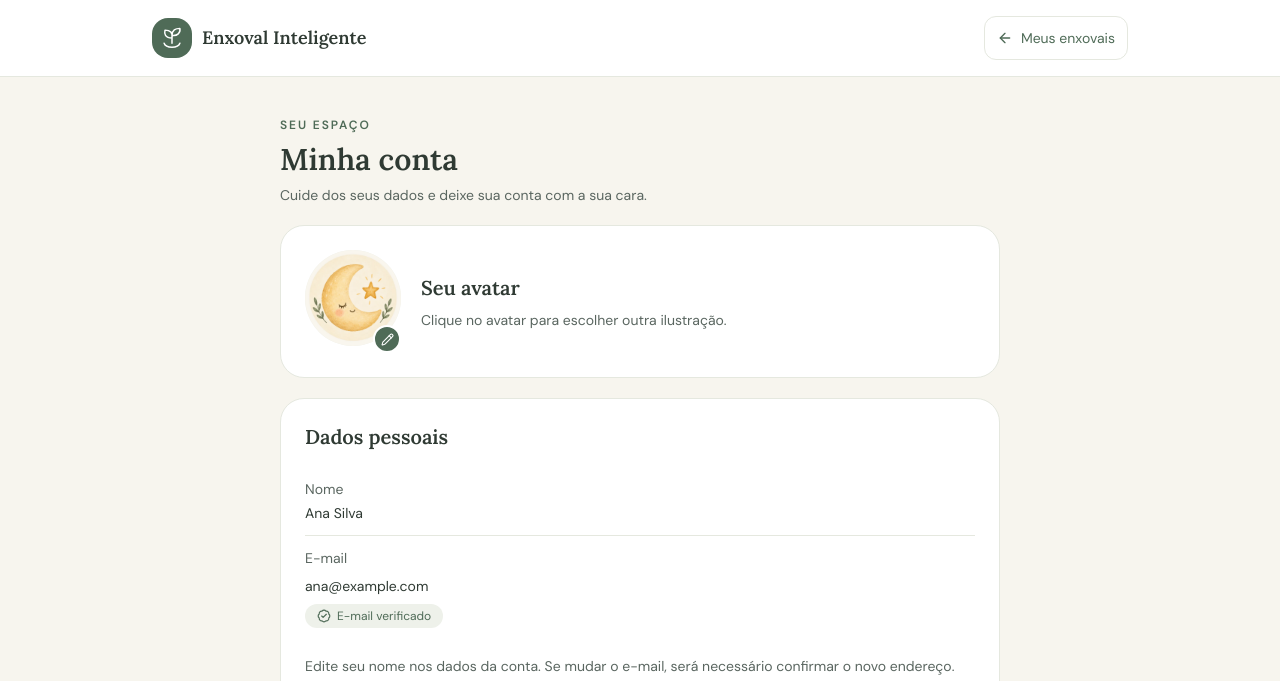
Test: Minha conta › mostra só o avatar atual e salva a escolha feita no modal
Click the button named "Alterar avatar" at [353, 302], box [305,250,401,353]
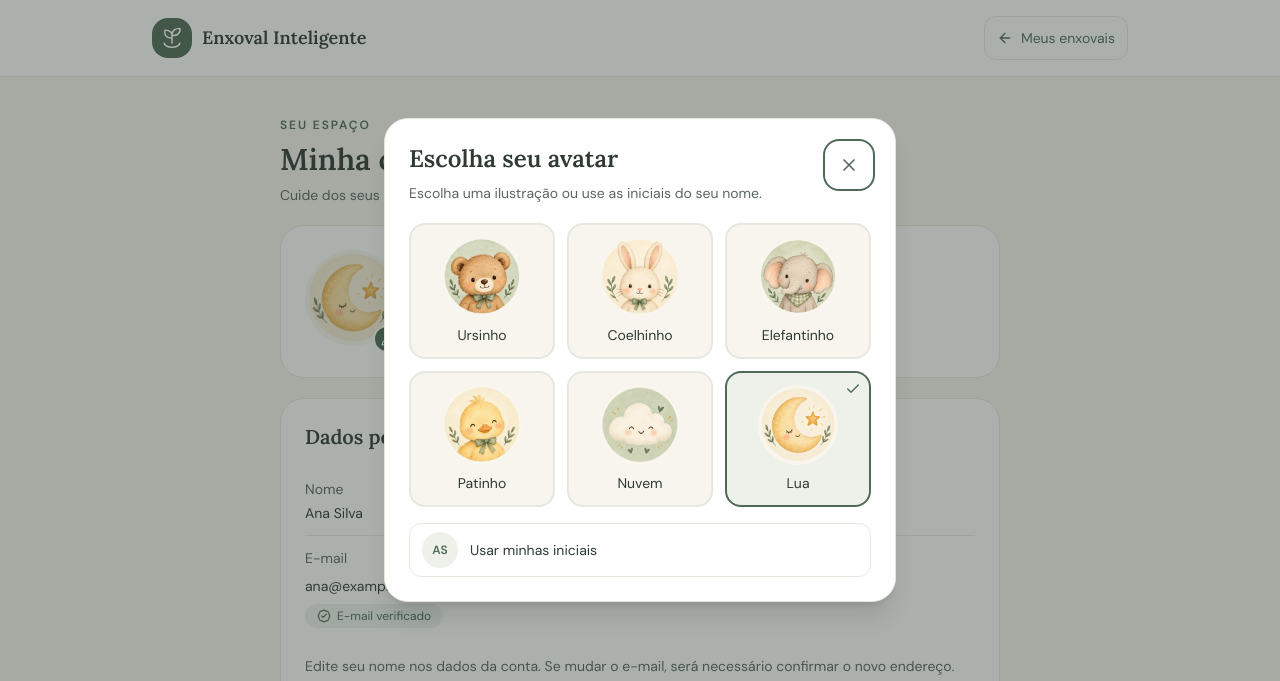
expect the number of buttons named "Escolher " is 6: met
Click the button with aria-label "Escolher Coelhinho" at [640, 291], box [567,223,713,359]
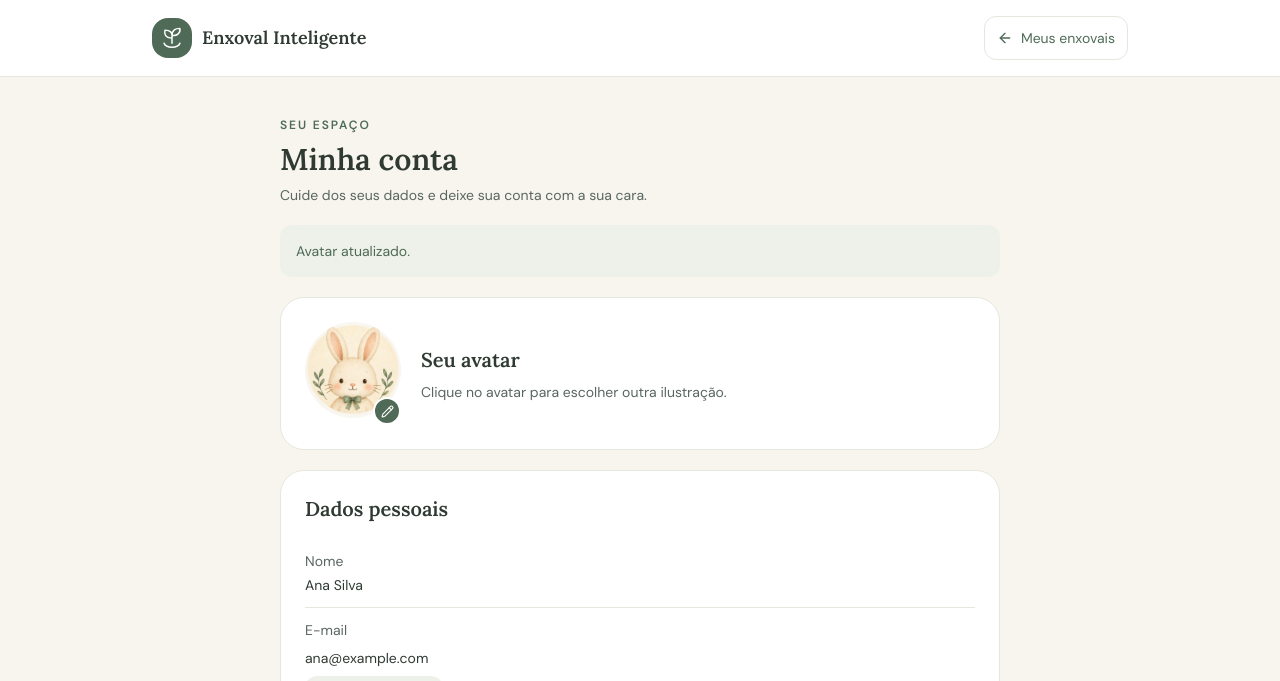
expect the message reads "Avatar atualizado.": met, box [296,242,410,260]
expect the dialog is gone: met
expect the button "Usar minhas iniciais" is gone: met
